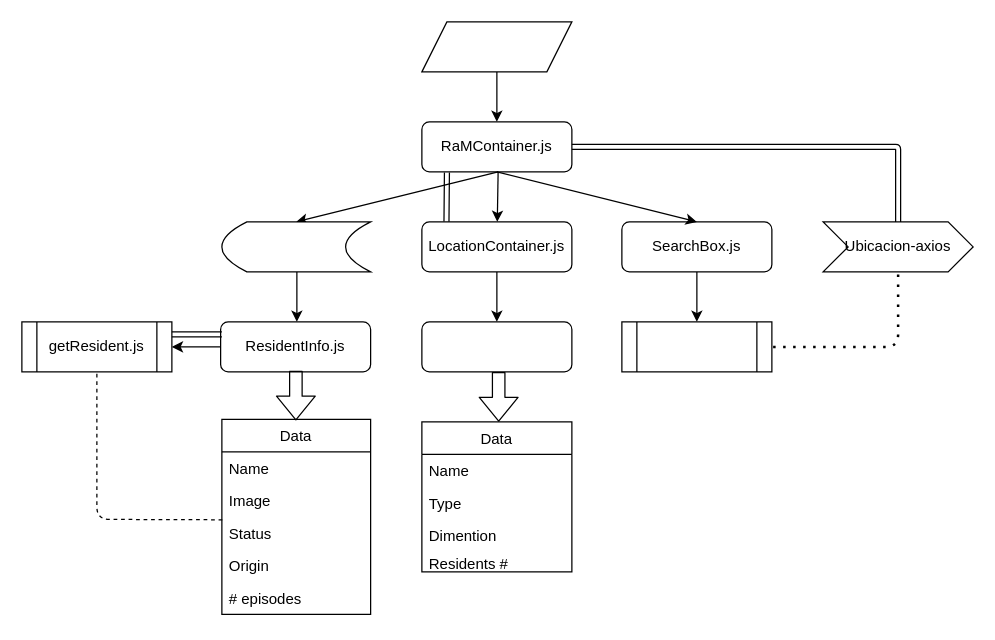
This 995x640 diagram has some shape labels left out. The shapes that lost their labels are listed below. From the top down, each one's centre as x and y in pixels, then its label:
At point 496,46: "App.js".
At point 296,246: "ResidentContainer.js".
At point 496,346: "LocationInfo".
At point 696,346: "getDimension.js".
